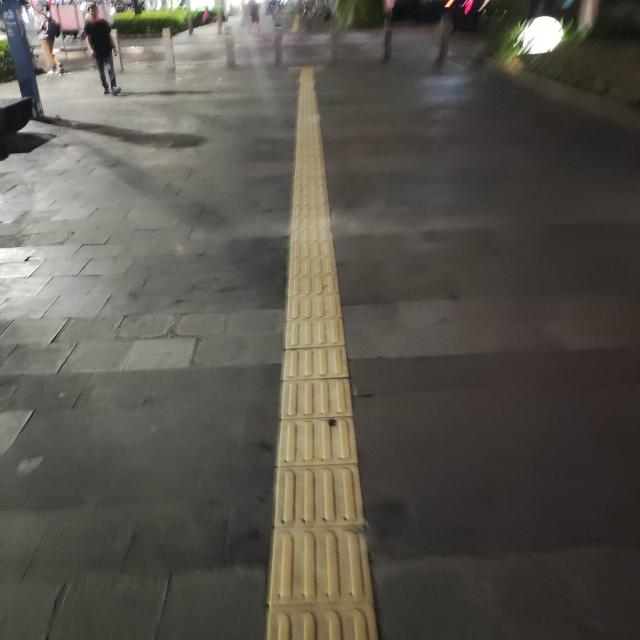lurus: (252, 144, 380, 640)
